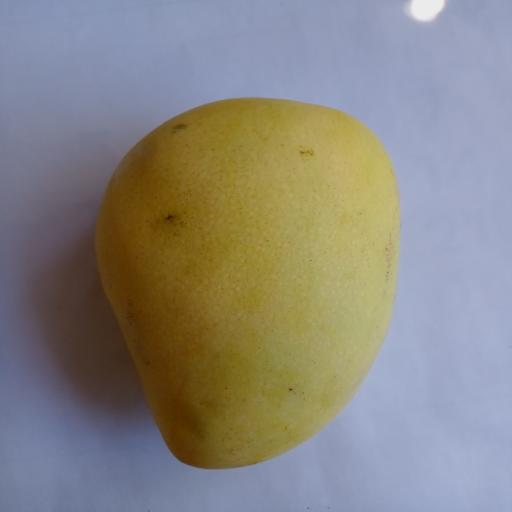mango-ripe: (65, 79, 420, 481)
